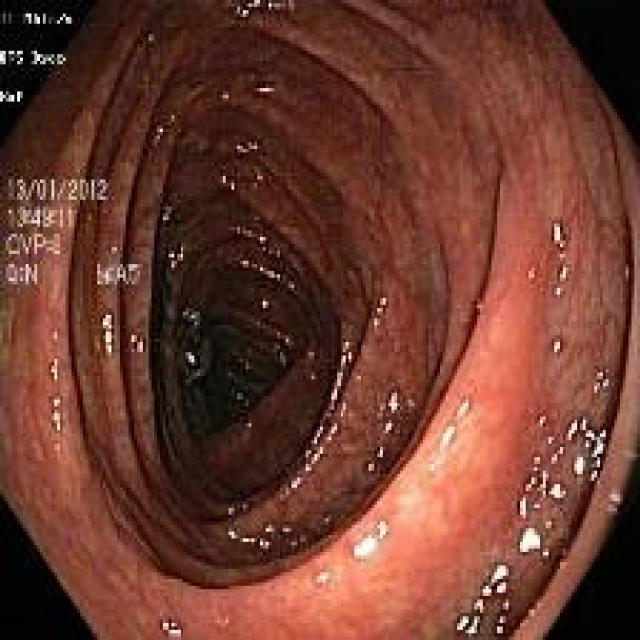ulcerative-colitis-grade-0-1: (1, 49, 617, 640)
